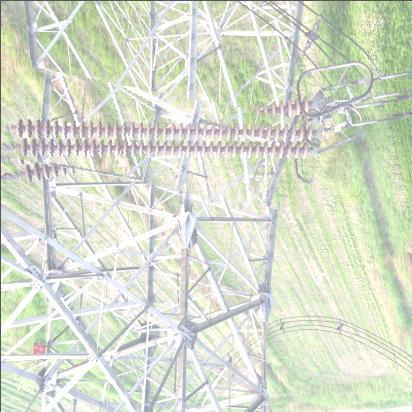insulator: (3, 79, 321, 201)
